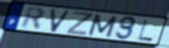9: (114, 15, 137, 41)
L: (136, 19, 154, 43)
M: (86, 13, 119, 39)
R: (19, 6, 46, 32)
V: (49, 8, 72, 34)
Z: (65, 10, 94, 36)
